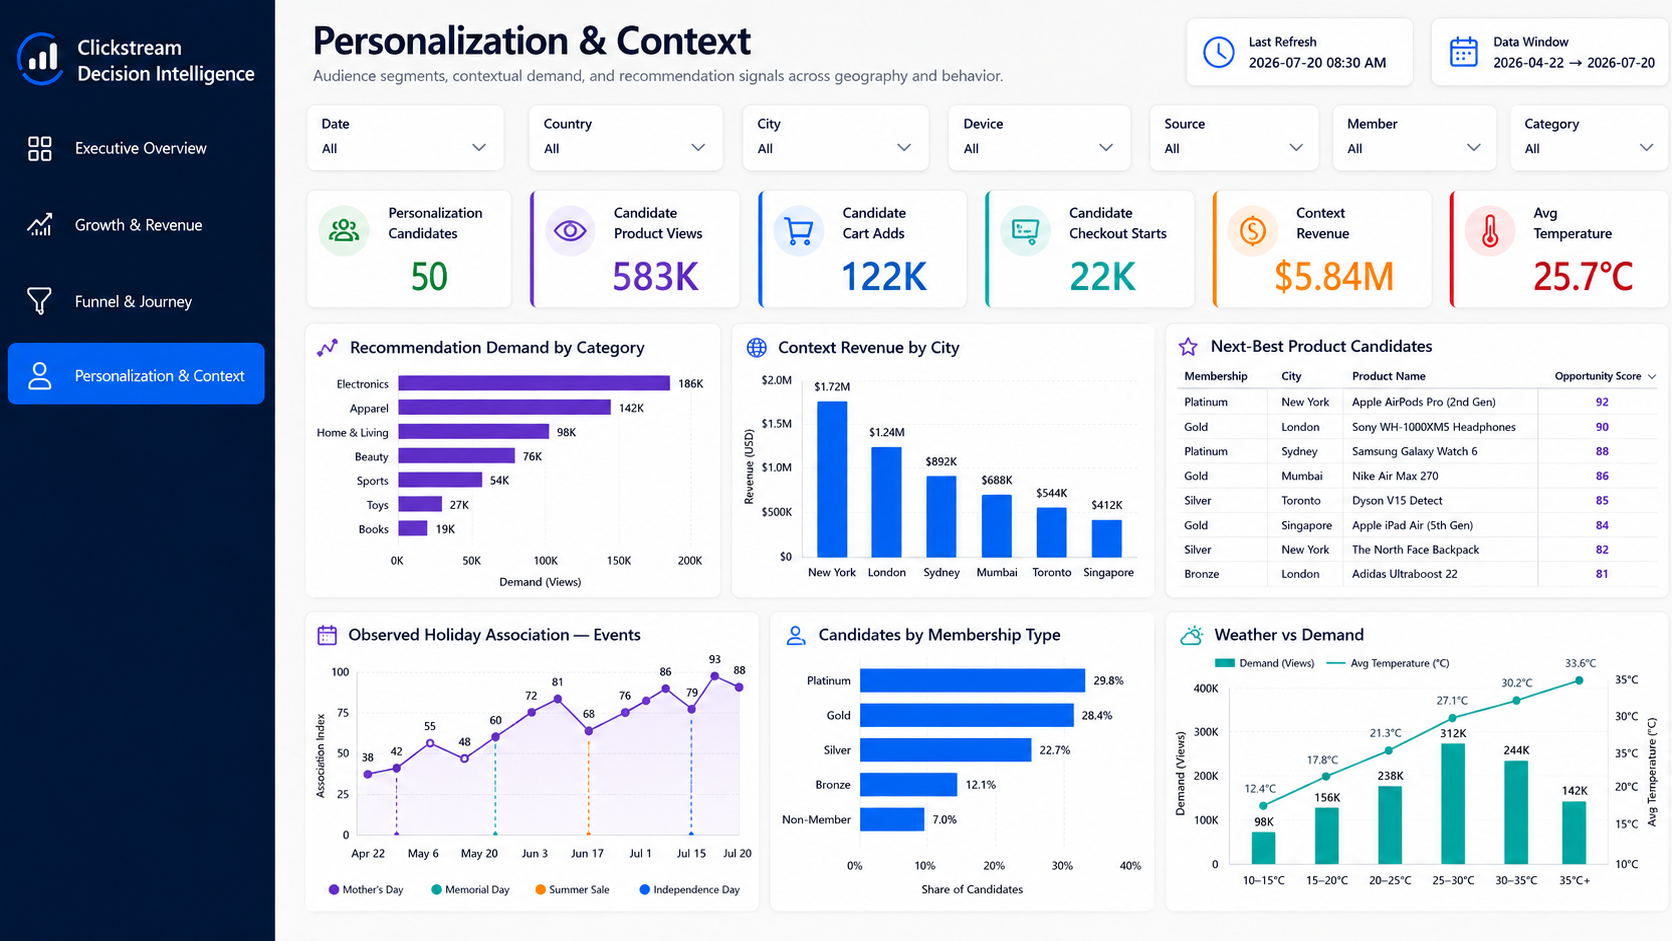

The dashboard page shown, as its layout file describes it:
{"tool":"powerbi","page":{"name":"02 Personalization & Context Studio","canvas":[1280,720],"ordinal":1},"visuals":[{"type":"textbox","box":[16,14,196,690],"z":0},{"type":"textbox","box":[226,14,1036,76],"z":1000},{"type":"textbox","box":[226,14,8,76],"z":2000},{"type":"textbox","box":[34,32,160,86],"z":3000},{"type":"textbox","box":[34,164,154,32],"z":5000},{"type":"textbox","box":[34,208,154,32],"z":6000},{"type":"textbox","box":[254,7,999,49],"z":12000},{"type":"textbox","box":[255,52,917,38],"z":13000},{"type":"slicer","title":"Date","fields":{"Values":["Dim Date.activity_date"]},"box":[226,104,139,76],"z":15000},{"type":"slicer","title":"Country","fields":{"Values":["Dim User.country_code"]},"box":[374,104,139,76],"z":16000},{"type":"slicer","title":"City","fields":{"Values":["Dim User.city"]},"box":[522,104,139,76],"z":17000},{"type":"slicer","title":"Device","fields":{"Values":["Fact Clickstream.device_type"]},"box":[670,104,139,76],"z":18000},{"type":"slicer","title":"Source","fields":{"Values":["Fact Clickstream.traffic_source"]},"box":[818,104,139,76],"z":19000},{"type":"slicer","title":"Member","fields":{"Values":["Dim User.membership_type"]},"box":[966,104,139,76],"z":20000},{"type":"slicer","title":"Category","fields":{"Values":["Dim Product.category"]},"box":[1114,104,139,76],"z":21000},{"type":"cardVisual","fields":{"Data":["Mart Personalization.Personalization Candidates"]},"box":[226,186,162,76],"z":22000},{"type":"cardVisual","fields":{"Data":["Mart Personalization.Candidate Product Views"]},"box":[401,186,162,76],"z":23000},{"type":"cardVisual","fields":{"Data":["Mart Personalization.Candidate Cart Adds"]},"box":[572,186,162,76],"z":24000},{"type":"cardVisual","fields":{"Data":["Mart Personalization.Candidate Checkout Starts"]},"box":[745,186,162,76],"z":25000},{"type":"cardVisual","fields":{"Data":["Mart Context Impact.Context Revenue"]},"box":[919,186,162,76],"z":26000},{"type":"cardVisual","fields":{"Data":["Mart Context Impact.Avg Temperature"]},"box":[1091.4,185.7,161.8,76.3],"z":27000},{"type":"barChart","title":"Recommendation Demand by Category","fields":{"Category":["Mart Personalization.category"],"Y":["Mart Personalization.Candidate Product Views"]},"box":[223,273,330,205],"z":32000},{"type":"barChart","title":"Context Revenue by City","fields":{"Category":["Mart Context Impact.city"],"Y":["Mart Context Impact.Context Revenue"]},"box":[572,273,335,205],"z":33000},{"type":"lineChart","title":"Observed Holiday Association — events","fields":{"Category":["Mart Context Impact.activity_date"],"Series":["Mart Context Impact.is_holiday"],"Y":["Mart Context Impact.Context Events"]},"box":[226,494,330,210],"z":34000},{"type":"barChart","title":"Candidates by Membership Type","fields":{"Category":["Mart Personalization.membership_type"],"Y":["Mart Personalization.Personalization Candidates"]},"box":[572,494,330,210],"z":35000},{"type":"tableEx","title":"Next-Best Product Candidates","fields":{"Values":["Mart Personalization.membership_type","Mart Personalization.city","Mart Personalization.product_name","Mart Personalization.category","Sum(Mart Personalization.product_view_count)","Sum(Mart Personalization.add_to_cart_count)"]},"box":[919,273,344,431],"z":36000}]}

Visuals, with their boxes on the page's 1280x720 design canvas (x1, y1, x2, y2). These are canvas units, not pixel positions in the 1672x941 screenshot, which may show the page scaled, cropped or inside an application window:
textbox: 16:14:212:704
textbox: 226:14:1262:90
textbox: 226:14:234:90
textbox: 34:32:194:118
textbox: 34:164:188:196
textbox: 34:208:188:240
textbox: 254:7:1253:56
textbox: 255:52:1172:90
"Date" slicer: 226:104:365:180
"Country" slicer: 374:104:513:180
"City" slicer: 522:104:661:180
"Device" slicer: 670:104:809:180
"Source" slicer: 818:104:957:180
"Member" slicer: 966:104:1105:180
"Category" slicer: 1114:104:1253:180
cardVisual - Mart Personalization.Personalization Candidates: 226:186:388:262
cardVisual - Mart Personalization.Candidate Product Views: 401:186:563:262
cardVisual - Mart Personalization.Candidate Cart Adds: 572:186:734:262
cardVisual - Mart Personalization.Candidate Checkout Starts: 745:186:907:262
cardVisual - Mart Context Impact.Context Revenue: 919:186:1081:262
cardVisual - Mart Context Impact.Avg Temperature: 1091:186:1253:262
"Recommendation Demand by Category" barChart: 223:273:553:478
"Context Revenue by City" barChart: 572:273:907:478
"Observed Holiday Association — events" lineChart: 226:494:556:704
"Candidates by Membership Type" barChart: 572:494:902:704
"Next-Best Product Candidates" tableEx: 919:273:1263:704
